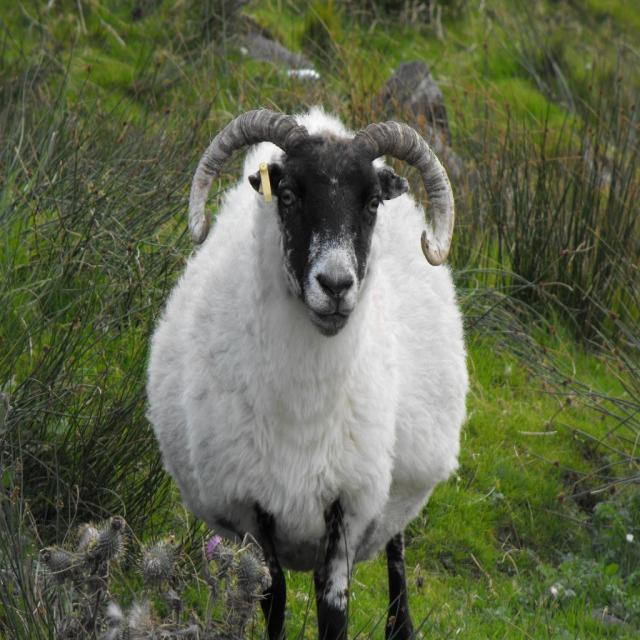Sheep: (144, 94, 475, 640)
